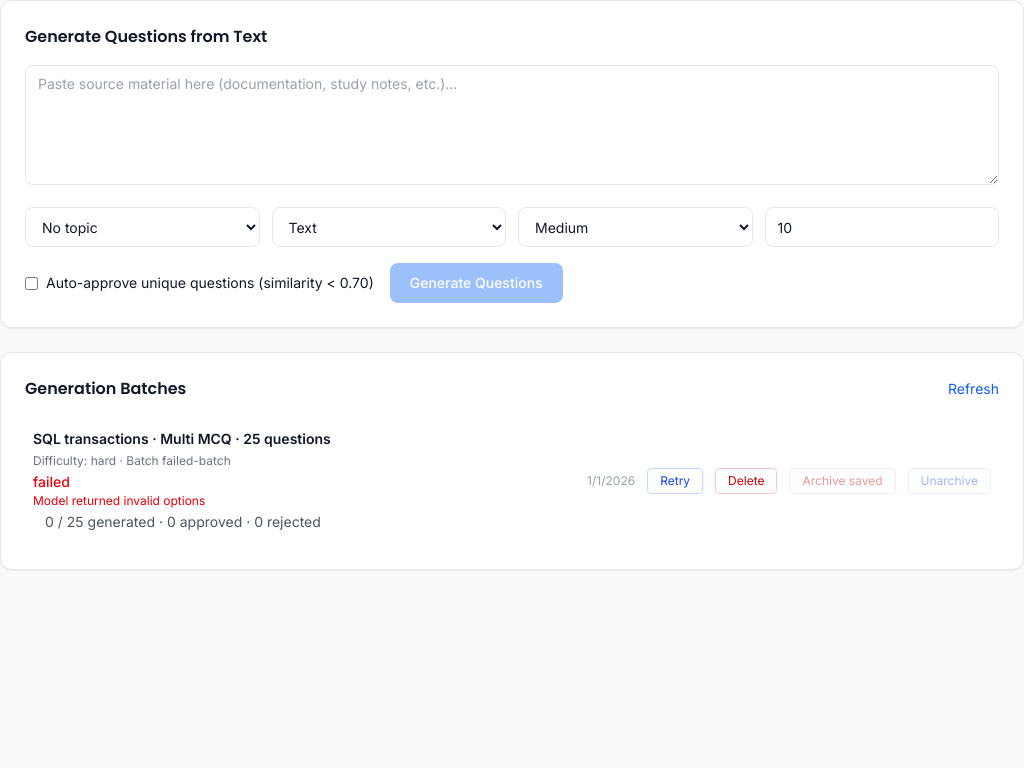
Test: generation batch context and failed actions › does not delete until confirmed and clears the selected staged review
This screenshot has width=1024, height=768.
What coordinates should you click on to do the following:
click the element that starts with "SQL transactions"
I would click on:
 (91, 438)
Its box is left=25, top=417, right=999, bottom=545.
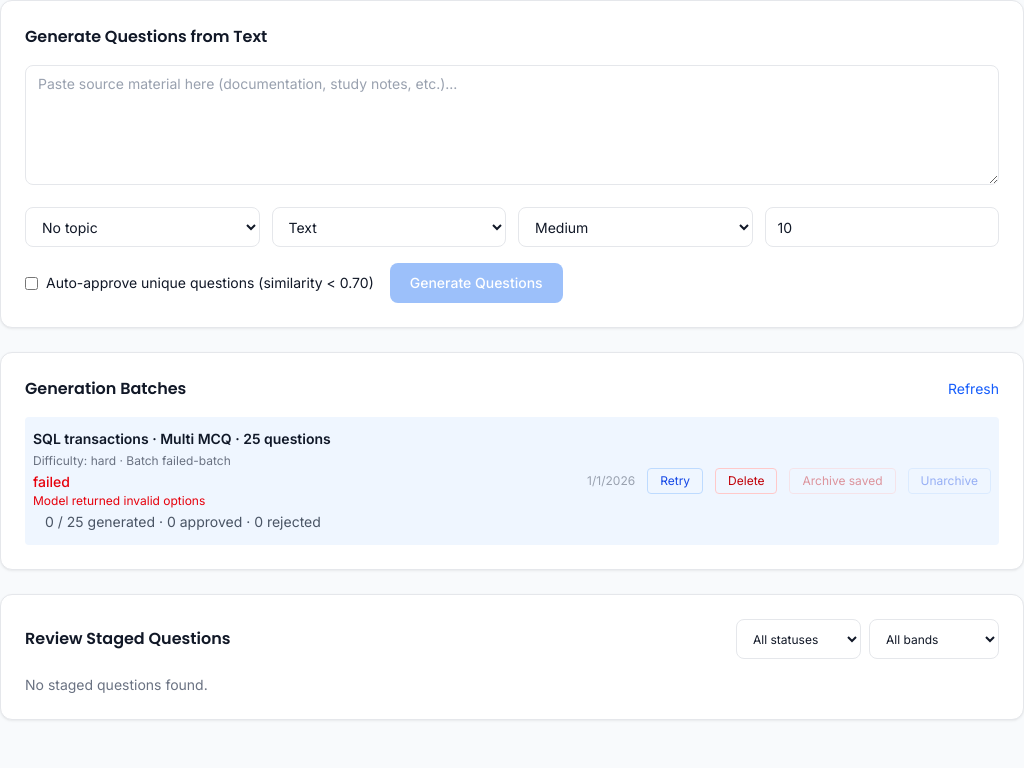
Now the text "Review Staged Questions" is shown, box left=25, top=627, right=230, bottom=651
What coordinates should you click on to do the following:
click the button "Delete"
I would click on:
 (746, 481)
Its box is left=715, top=468, right=778, bottom=494.
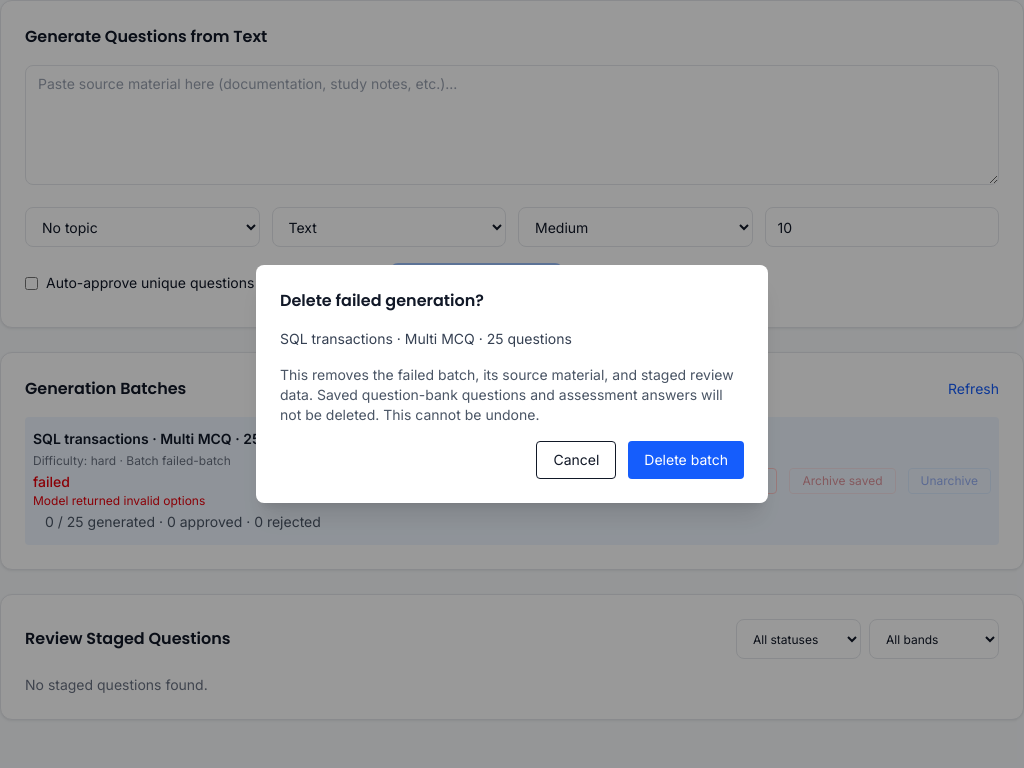
Now the dialog shows "will not be deleted", box left=280, top=366, right=734, bottom=423
Now the button "Cancel" is shown
What coordinates should you click on to do the following:
click the button "Cancel"
I would click on:
 (576, 460)
Its box is left=536, top=441, right=616, bottom=479.
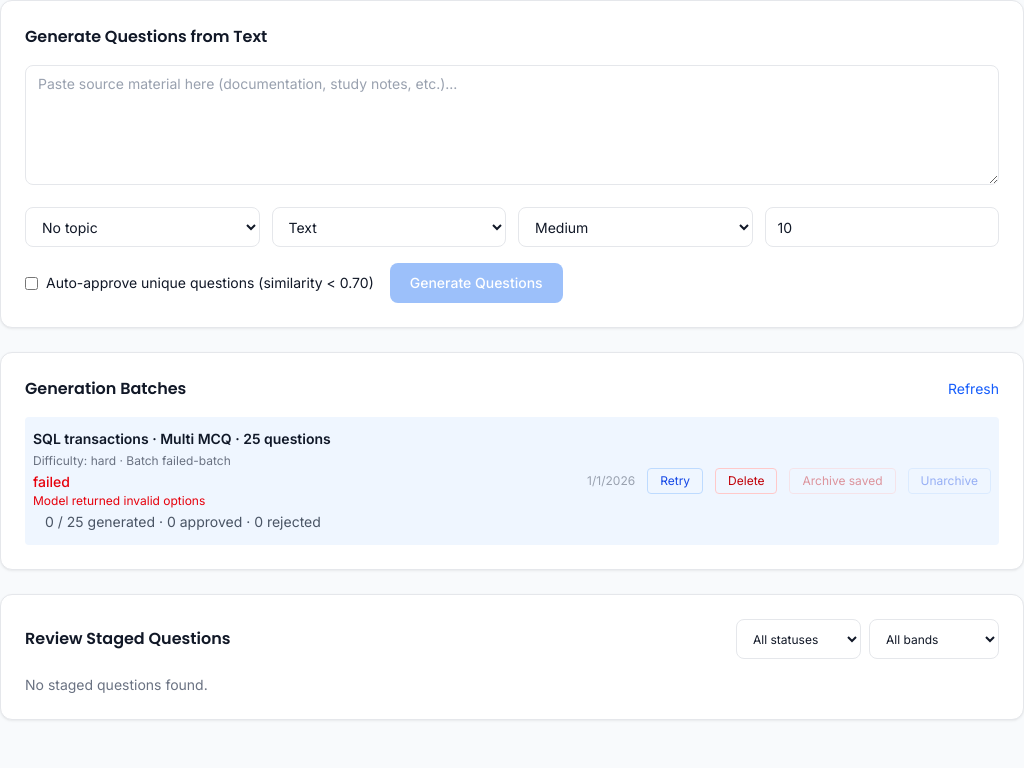
What coordinates should you click on to do the following:
click the button "Delete"
I would click on:
 (746, 481)
Its box is left=715, top=468, right=778, bottom=494.
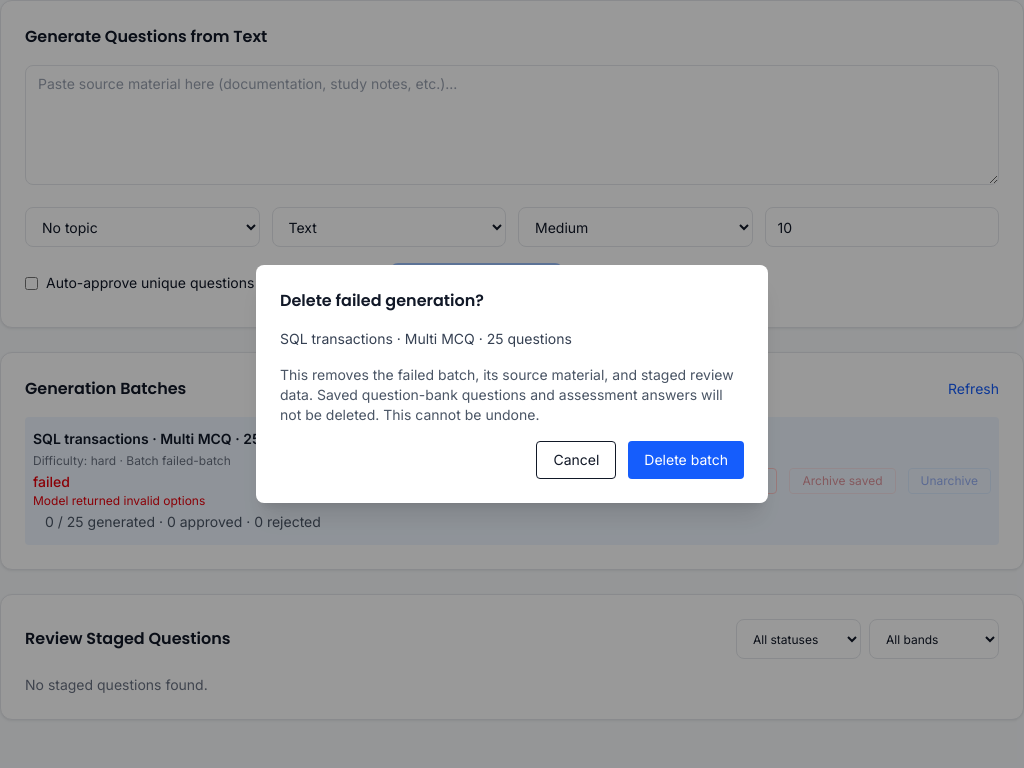
Now the button "Delete batch" is shown
What coordinates should you click on to do the following:
click the button "Delete batch"
I would click on:
 (686, 460)
Its box is left=628, top=441, right=744, bottom=479.
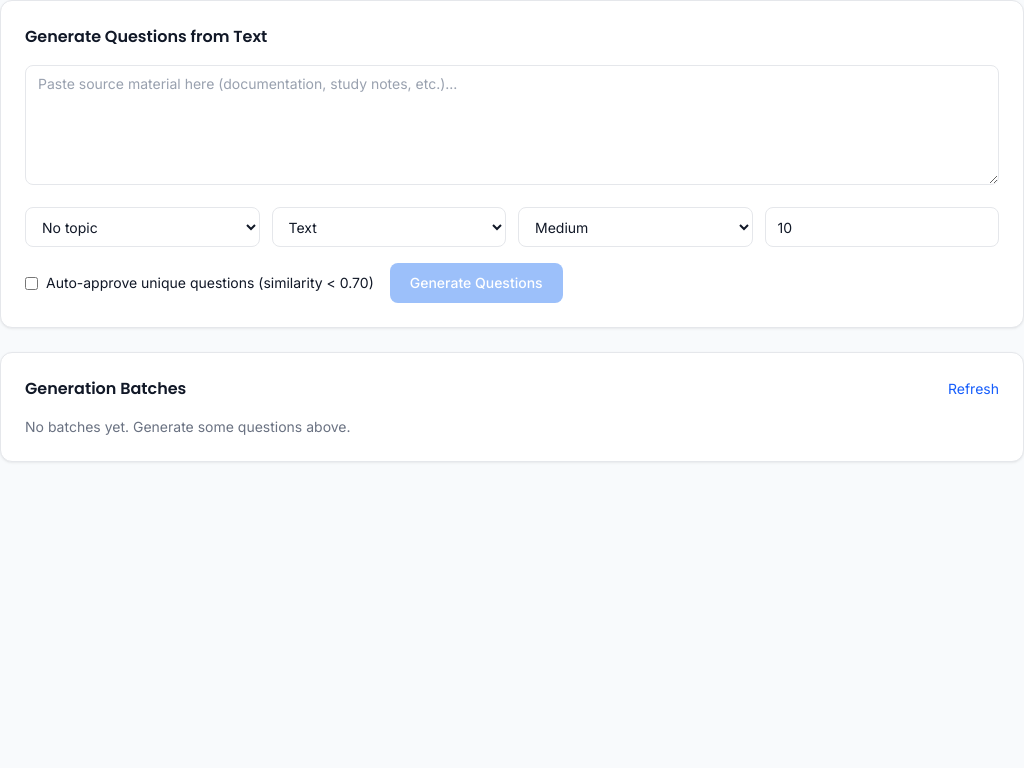
Now the text "Review Staged Questions" is gone
Now the text "No batches yet" is shown, box left=25, top=418, right=350, bottom=435
